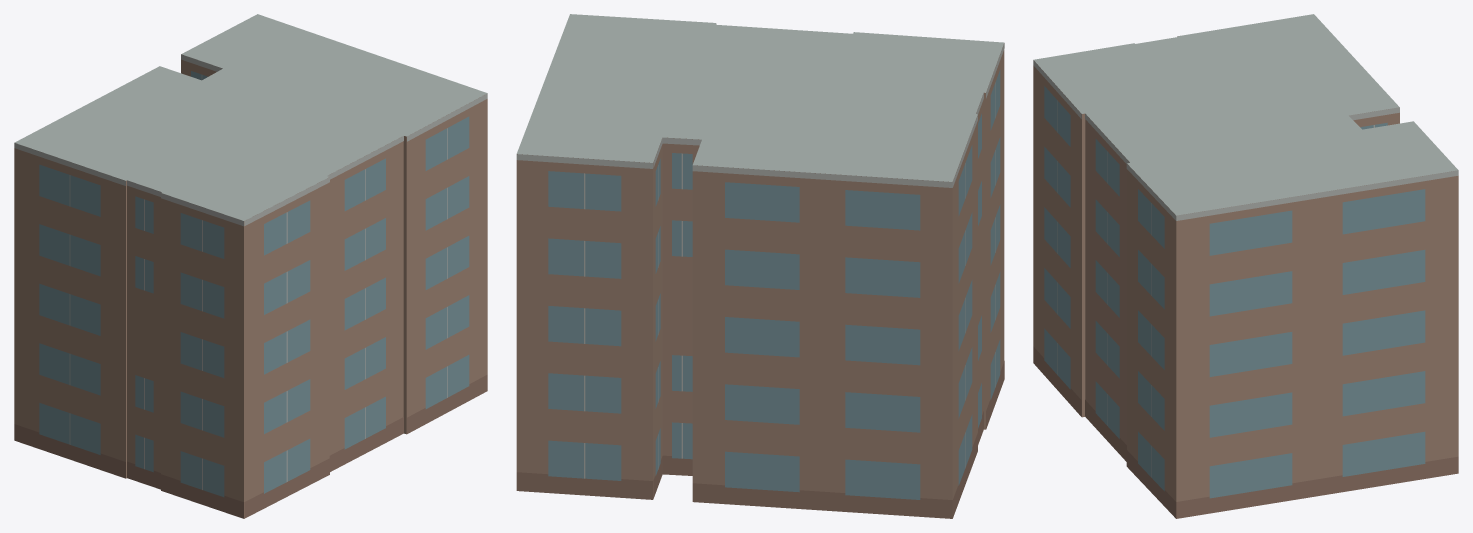
Rendered from survey-upis-32843947.glb.
3 renders of one model, left to right at view 1: azimuth 30°, elevation 25°; view 2: azimuth 150°, elevation 25°; view 3: azimuth 270°, elevation 25°, orthographic. The views are drawn at different scales.
Parts seen in each view (by area): view 1: survey-upis-32843947.tmp; view 2: survey-upis-32843947.tmp; view 3: survey-upis-32843947.tmp.
Part boxes in pixels (x1,y1,x2,y2): survey-upis-32843947.tmp: [14, 14, 487, 518]; survey-upis-32843947.tmp: [516, 14, 1004, 518]; survey-upis-32843947.tmp: [1033, 14, 1458, 518].
Bounding box in the file's own units: 19.4 × 13.6 × 17.3.
